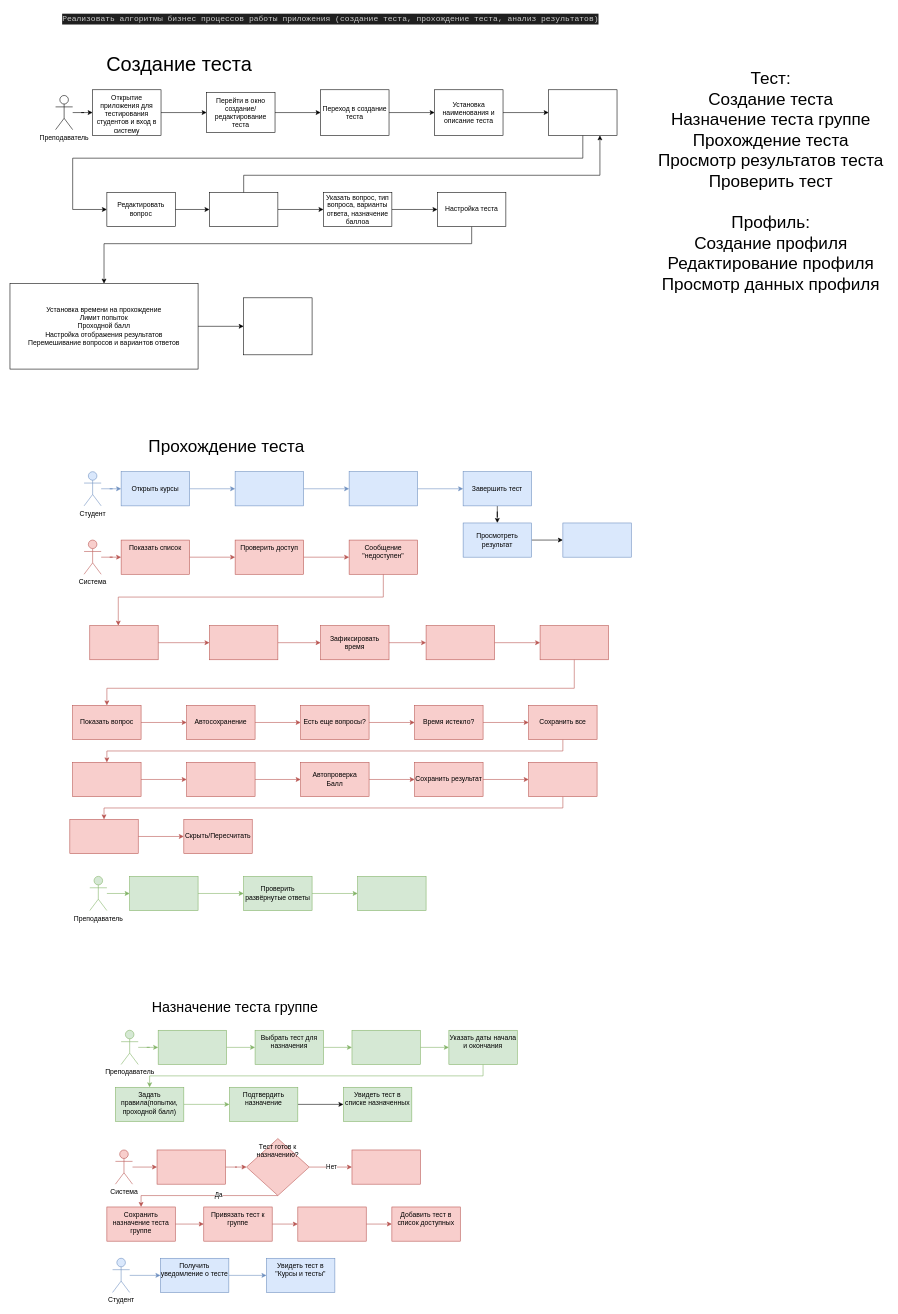
The diagram is 898 pixels wide and 1314 high, and some of its shapes have lost their labels. The shapes that lost their labels are listed below. From the top down, each one's centre as x and y in pixels, then its label:
pixel 582 112: Добавить вопрос
pixel 243 209: Указать вопрос, тип вопроса, варианты ответа, назначение баллов
pixel 277 326: Сохранение теста
pixel 269 488: Выбрать тест
pixel 383 488: Ответить/Пропустить
pixel 596 539: Просмотреть ошибки
pixel 123 642: Проверить сессию
pixel 243 642: Восстановить/Создать попытку
pixel 460 642: Порядок вопросов
pixel 574 642: Таймер
pixel 106 779: Время окончания
pixel 220 779: Есть ручная проверка?
pixel 562 779: Политика попыток
pixel 103 836: Показывать результат?
pixel 163 893: Получить уведомление
pixel 391 893: Выставить баллы
pixel 192 1047: Открыть раздел "Тесты"
pixel 385 1047: Выбрать группу
pixel 190 1166: Проверить готовность отчёта
pixel 385 1166: Тест не готов
pixel 331 1223: Отправить уведомления студентам группы
